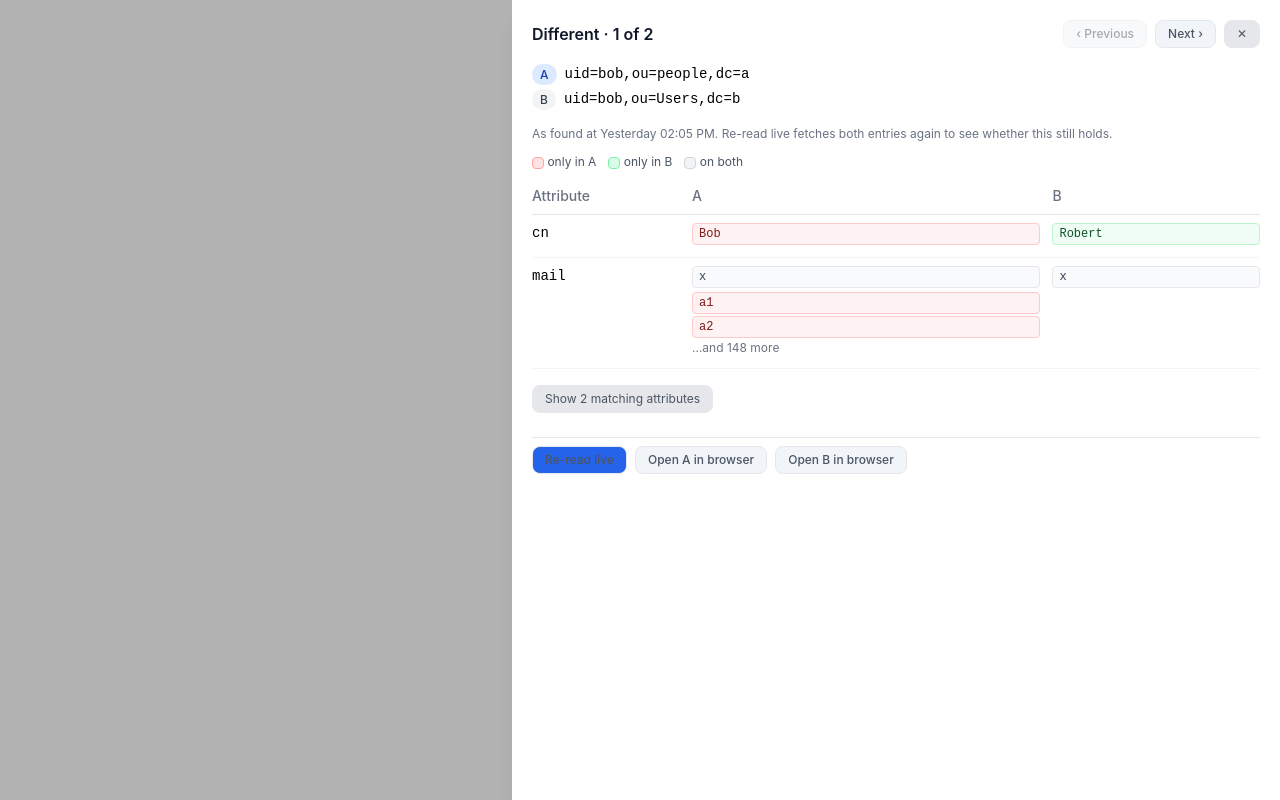
DirectoryDiffEntryPanel › lists matching attributes by name until re-read
Click the button "Show 2 matching attributes" at x=623, y=399, box [532,385,713,413]
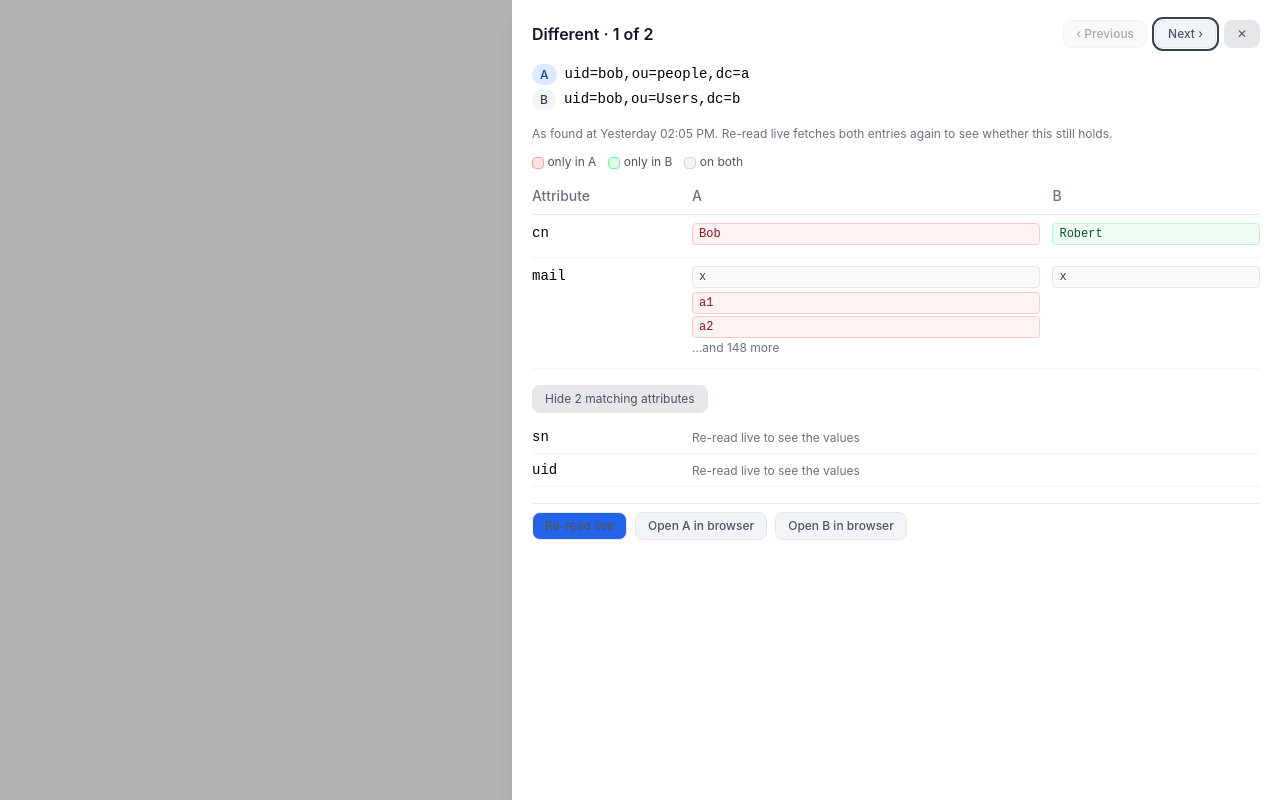
Expected: the table with test id "same-table" shows "Re-read live to see the values", [692,430,860,445]
